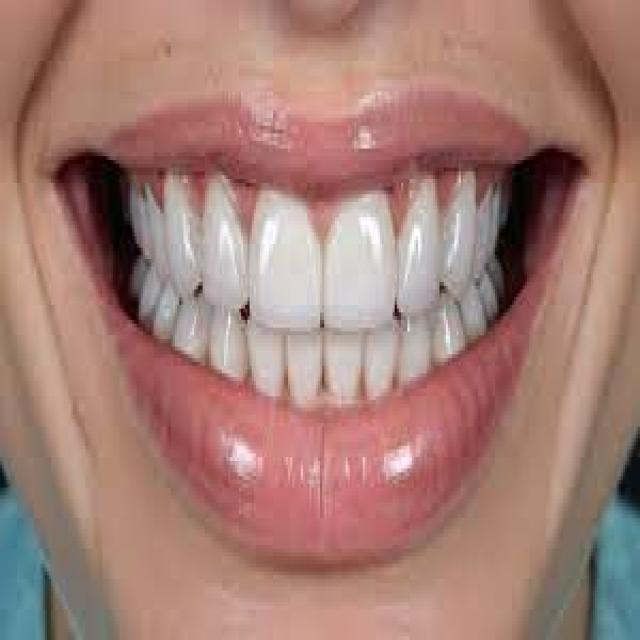tooth: (246, 183, 324, 324), (322, 198, 397, 324), (200, 172, 246, 316), (392, 179, 443, 305), (441, 164, 478, 293), (167, 179, 200, 301), (322, 332, 365, 408), (145, 168, 169, 290), (171, 290, 211, 358), (247, 324, 286, 392), (363, 331, 399, 400), (153, 282, 190, 343), (288, 335, 322, 400), (209, 312, 245, 373), (487, 179, 514, 259), (403, 312, 429, 385), (132, 266, 164, 324), (456, 286, 488, 343), (473, 172, 492, 266), (435, 301, 463, 362), (128, 179, 149, 255), (476, 270, 499, 320), (126, 255, 145, 301), (484, 274, 504, 312)
